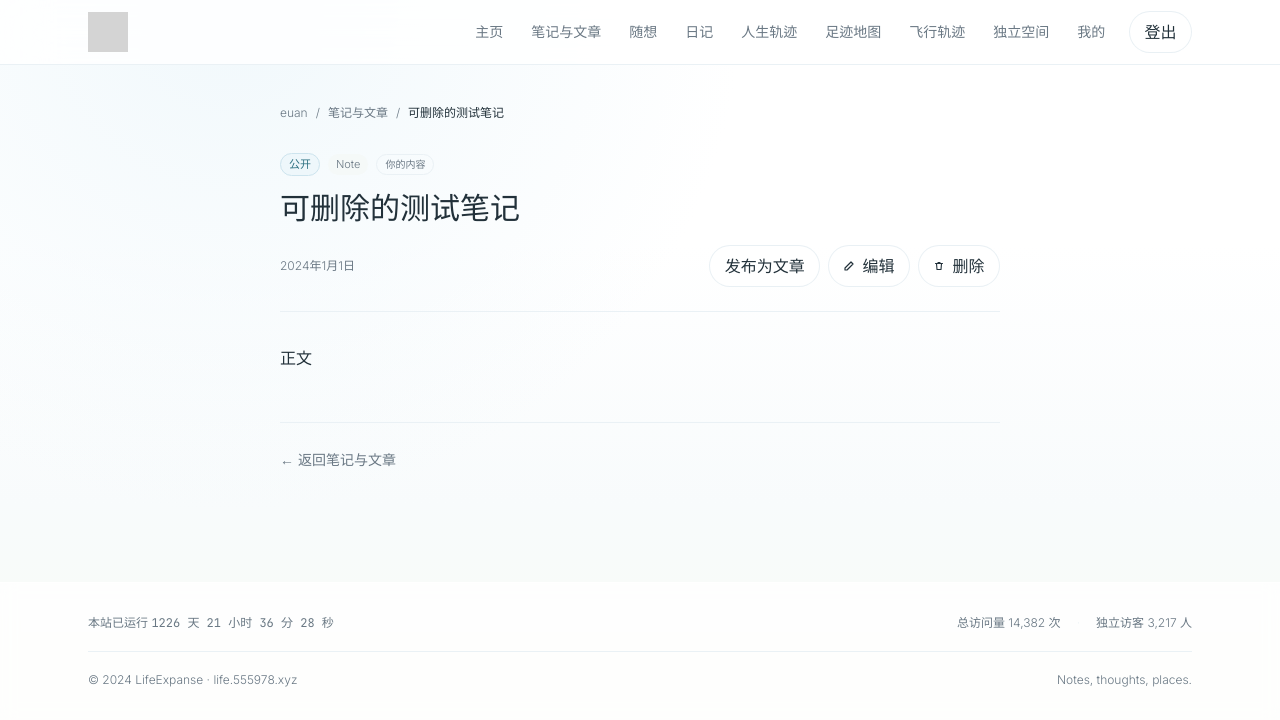
Test: delete a note › asks before doing anything
What coordinates should you click on to do the following:
click the button "删除"
I would click on:
 (959, 266)
Its box is [918,245,1000,287].
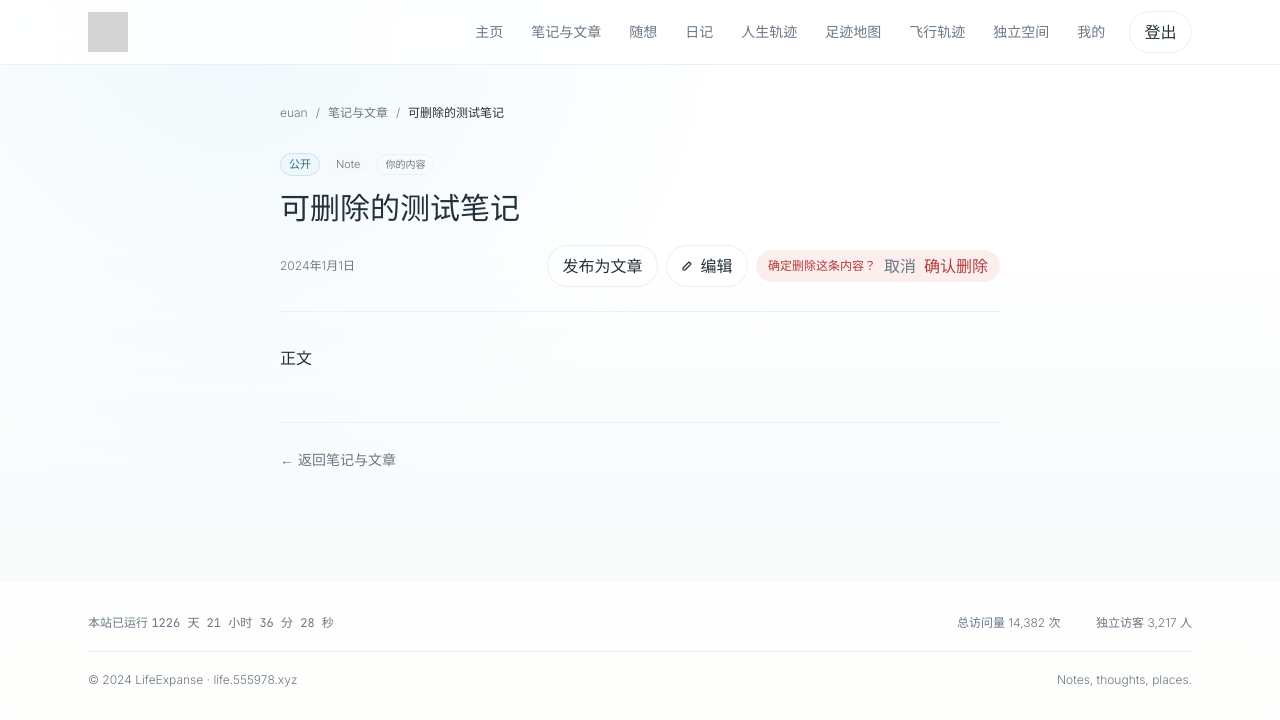
Check: the text "确定删除这条内容？" is shown, box [768,258,876,274]
